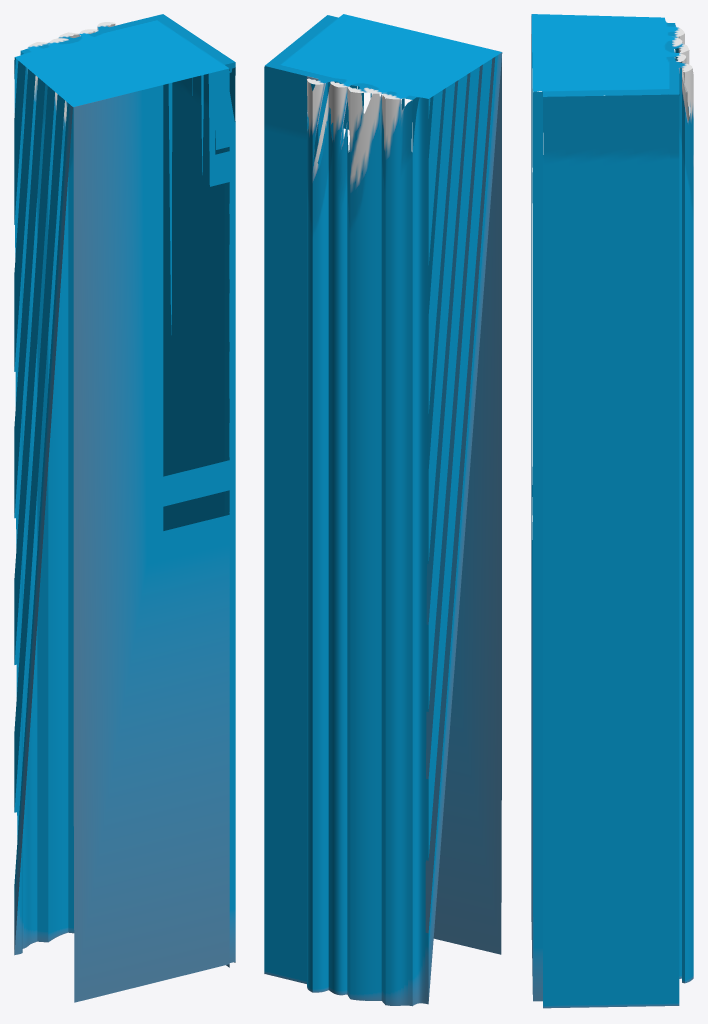
File: small river.FBX
3 views of the same model, side by side, from view 1: azimuth 30°, elevation 25°; view 2: azimuth 150°, elevation 25°; view 3: azimuth 270°, elevation 25° (orthographic).
Visible parts, largest first — view 1: Shape1; view 2: Shape1; view 3: Shape1.
Boxes of the visible parts, box(x1,y1,x2,y2) form: Shape1: box(14, 14, 235, 1002); Shape1: box(264, 14, 502, 1006); Shape1: box(531, 14, 693, 1008).
Bounding box in the file's own units: 4.87 × 25 × 4.02.
